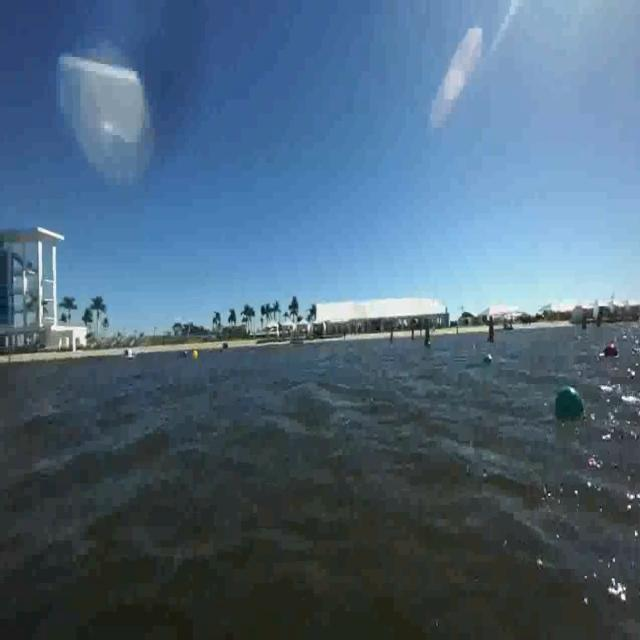green-buoy: (548, 373, 590, 438)
red-buoy: (605, 334, 623, 374)
yellow-buoy: (190, 343, 204, 365)
